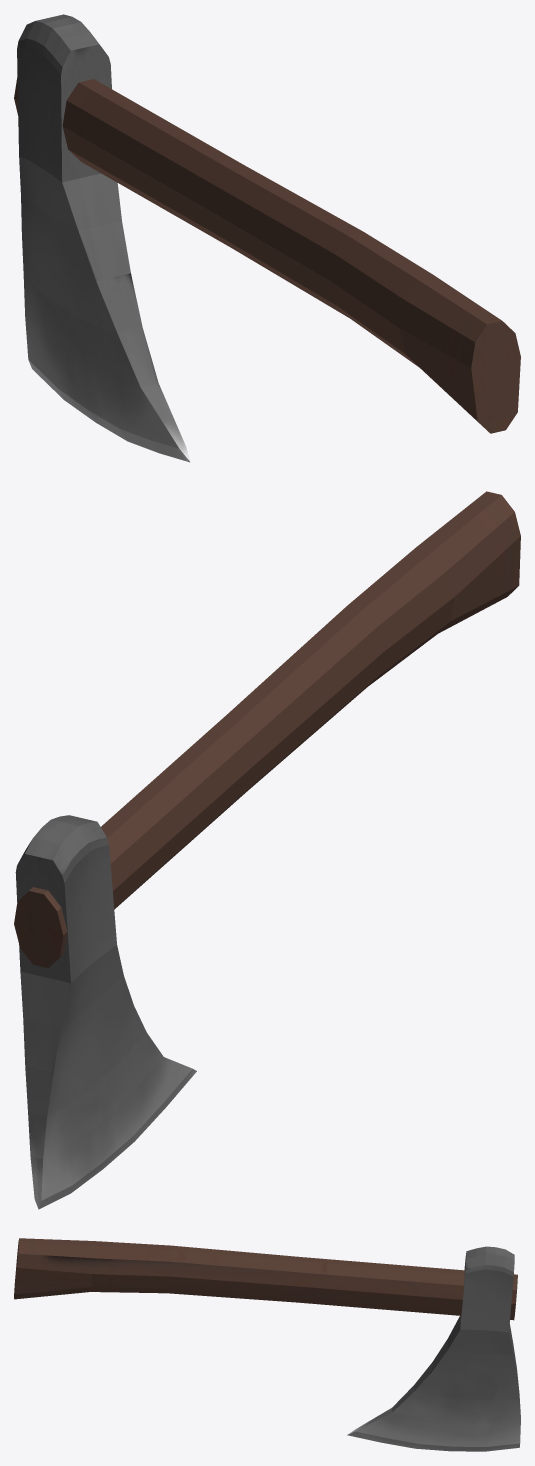
Rendered from axe.obj.
3 renders of one model, top to bottom at view 1: azimuth 30°, elevation 25°; view 2: azimuth 150°, elevation 25°; view 3: azimuth 270°, elevation 25°, orthographic. The views are drawn at different scales.
Parts seen in each view (by area): view 1: Cube.020; view 2: Cube.020; view 3: Cube.020.
Boxes of the visible parts, x1,y1,x2,y2 form: Cube.020: [14, 14, 520, 462]; Cube.020: [14, 491, 520, 1209]; Cube.020: [14, 1238, 520, 1451].
Size of the model in its own units: 0.0416 by 0.2796 by 0.6056.
1 material, 1 textured.
